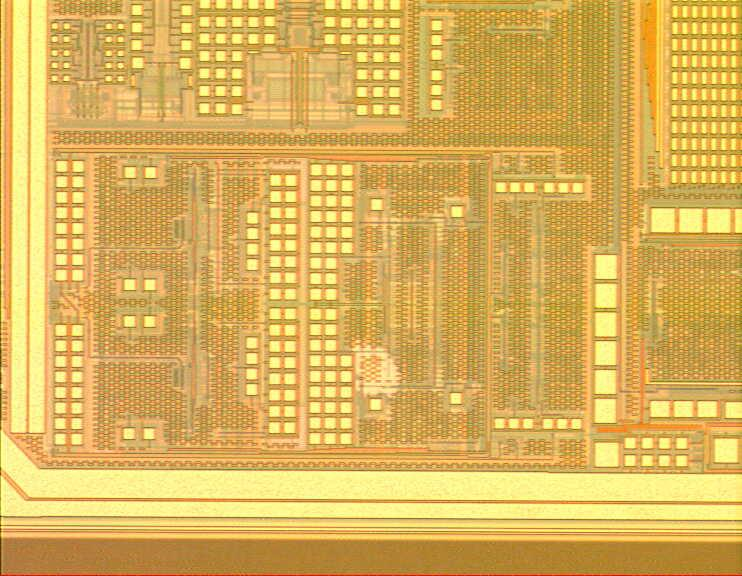BLOCK ETCH: (335, 335, 411, 411)
